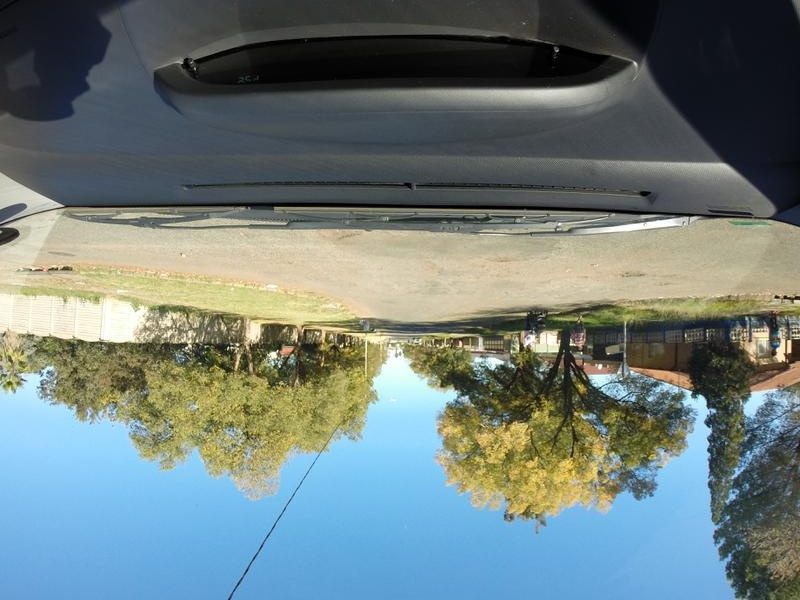pothole: (315, 230, 366, 250), (481, 253, 536, 261), (615, 269, 647, 279), (658, 280, 672, 287)
